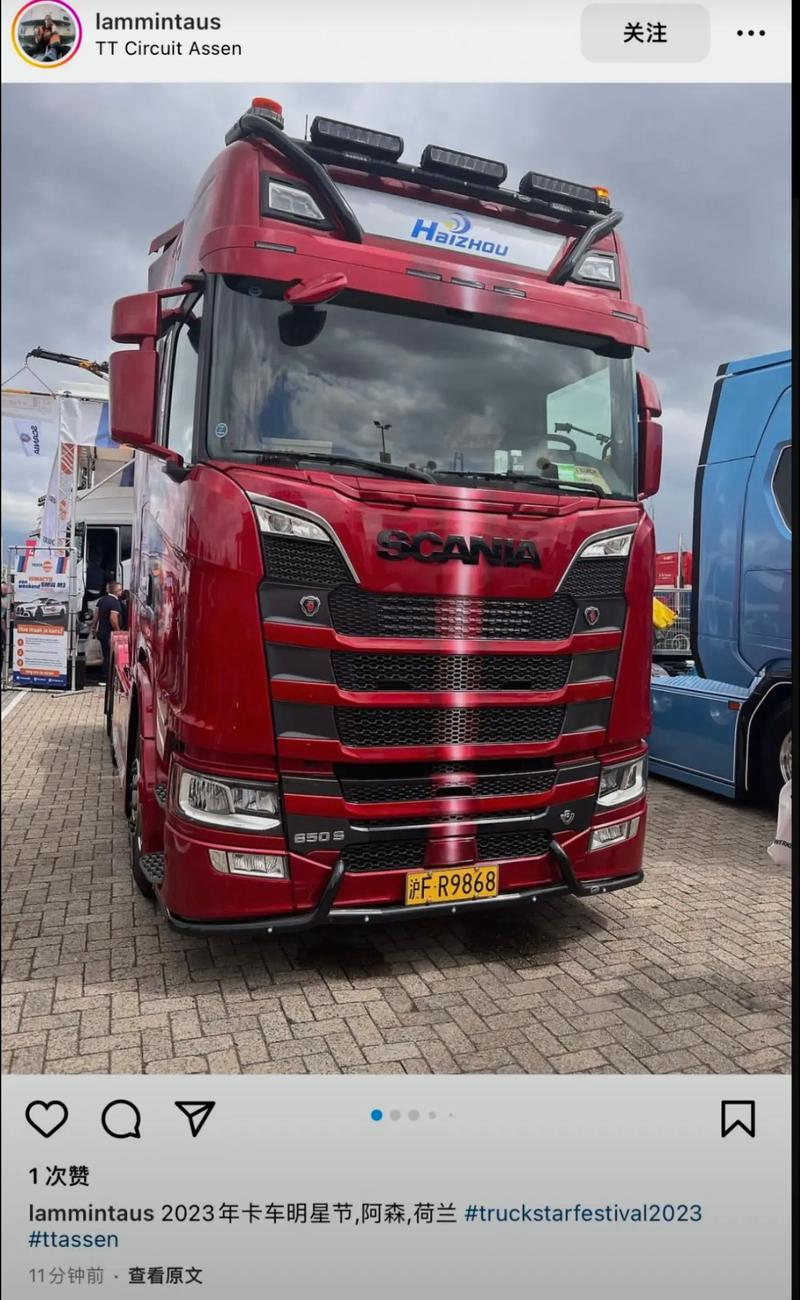卡车: (77, 100, 664, 973)
